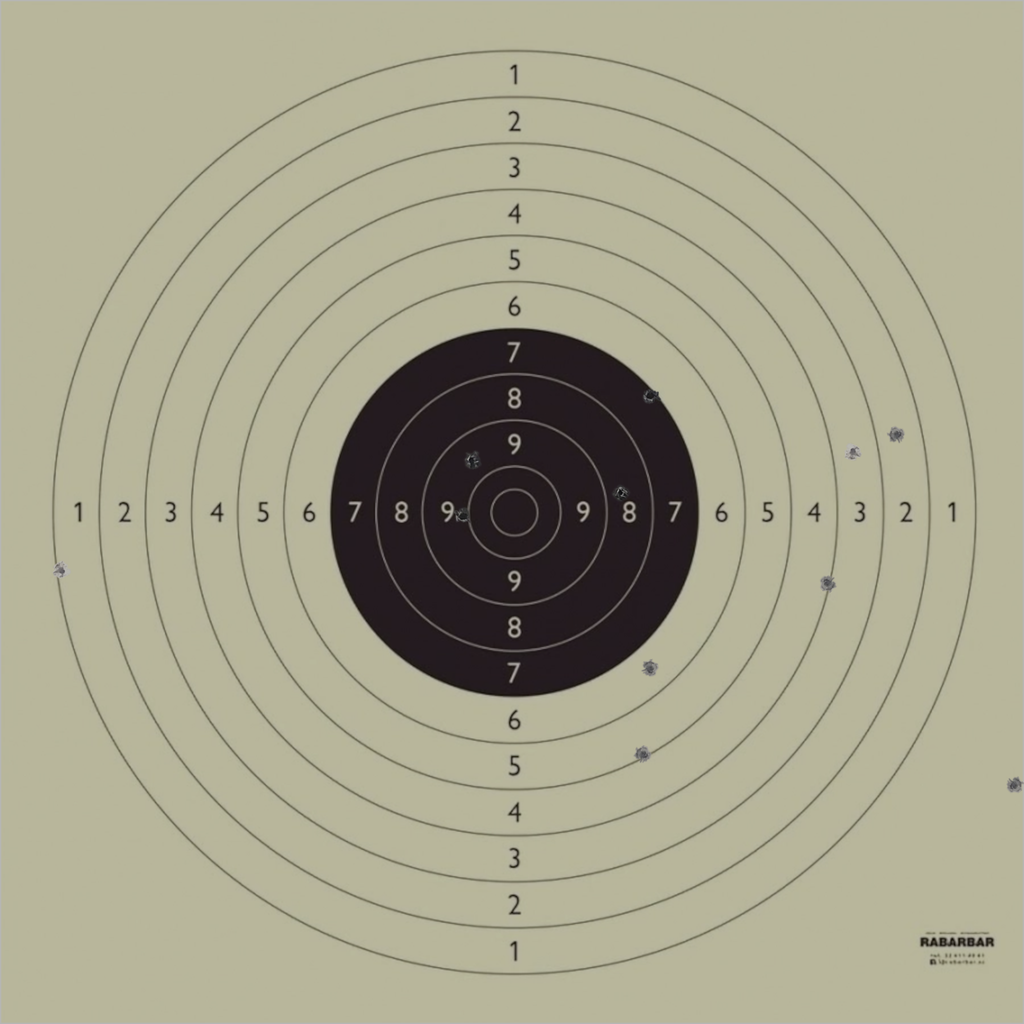0 punktow: (1005, 776, 1023, 795)
1 punkt: (52, 561, 71, 580)
10 punktow: (454, 507, 472, 526)
2 punkty: (888, 425, 906, 444)
3 punkty: (844, 443, 862, 461)
4 punkty: (818, 574, 837, 592)
5 punktow: (634, 745, 653, 764)
6 punktow: (641, 660, 659, 678)
7 punktow: (641, 387, 660, 405)
8 punktow: (611, 483, 630, 502)
9 punktow: (463, 451, 481, 469)
